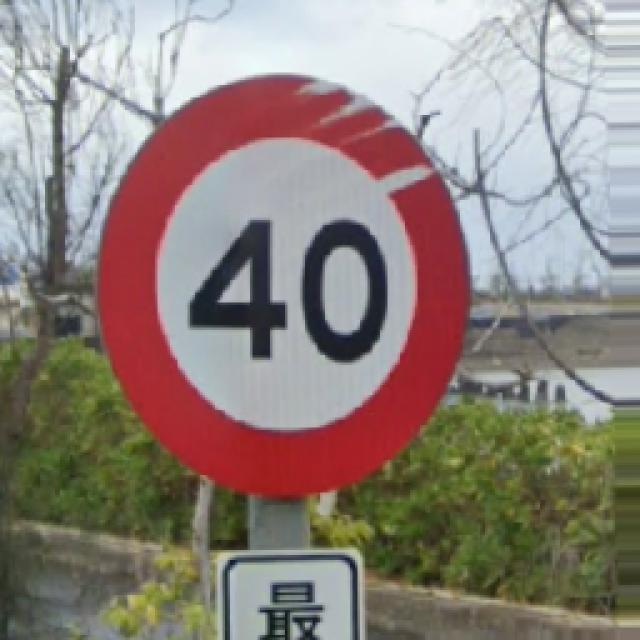Speed Limit -40-: (100, 75, 468, 492)
